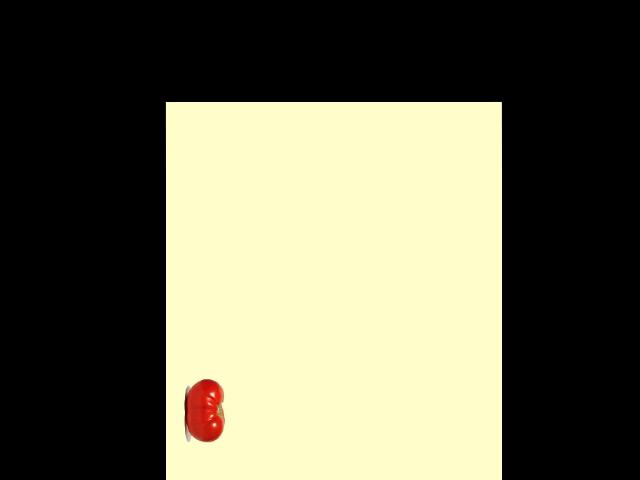tomato: (186, 378, 224, 441)
